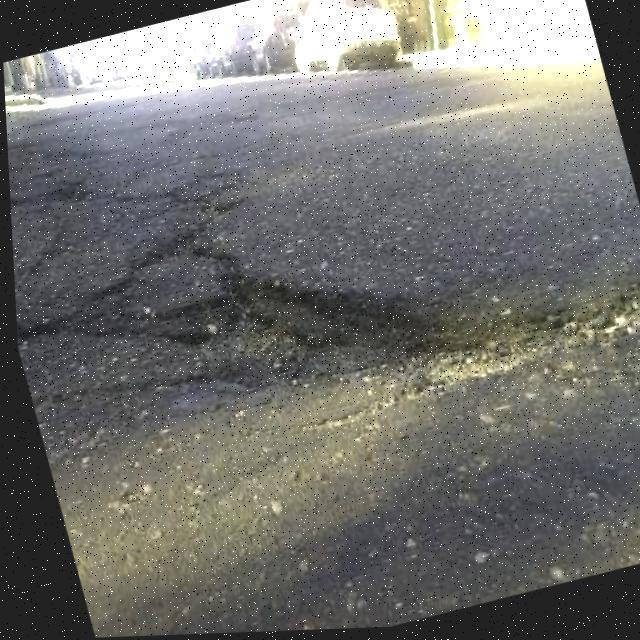pothole: (142, 175, 640, 460)
